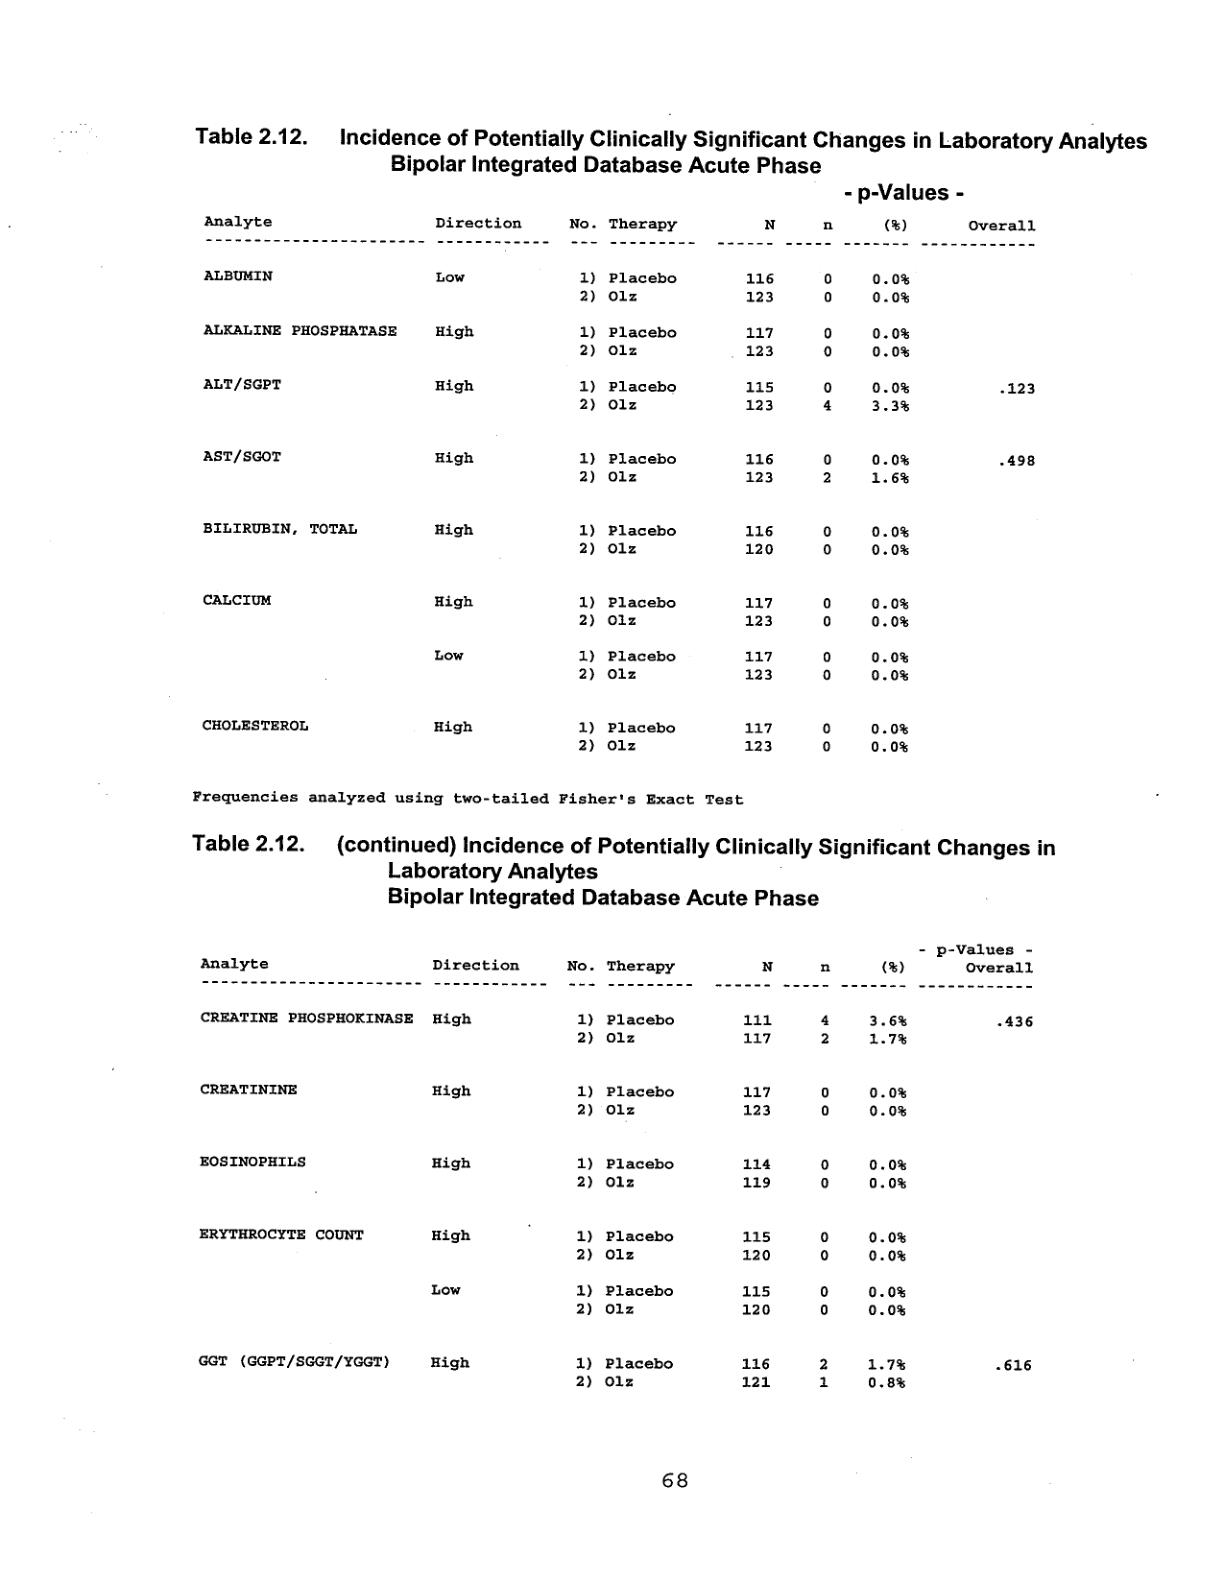nolines: (198, 211, 1038, 758), (197, 943, 1036, 1392)
